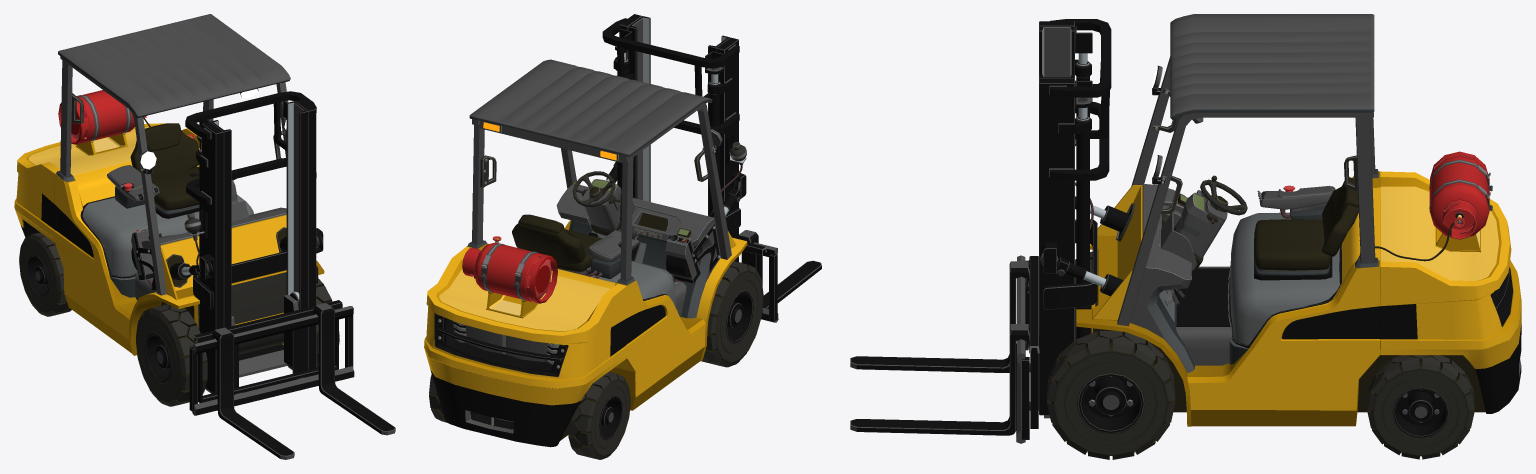
File: lift_truck.glb
3 views of the same model, side by side, from view 1: azimuth 30°, elevation 25°; view 2: azimuth 150°, elevation 25°; view 3: azimuth 270°, elevation 25° (orthographic). The views are drawn at different scales.
Visible parts, largest first — view 1: Cube037, Cube068, Cube027, Cube019, Cylinder030, Cube047, Cube041, Cube023, Cube050, Cube029, Cube049, Cube028 (+26 smaller); view 2: Cube019, Cube037, Cube043, Cube041, Cube068, Cube042, Cylinder036, Cylinder030, Cylinder040, Cube023, Cube038, Cube039 (+28 smaller); view 3: Cube037, Cube019, Cube041, Cylinder030, Cube068, Cube023, Cylinder036, Cube027, Cube047, Cube039, Cube042, Cube076 (+27 smaller).
Boxes of the visible parts, left/top/right/bottom form: Cube037: left=58, top=14, right=290, bottom=117; Cube068: left=202, top=99, right=316, bottom=392; Cube027: left=212, top=303, right=395, bottom=459; Cube019: left=14, top=123, right=197, bottom=238; Cylinder030: left=135, top=278, right=339, bottom=406; Cube047: left=83, top=195, right=253, bottom=297; Cube041: left=55, top=239, right=137, bottom=353; Cube023: left=55, top=140, right=237, bottom=275; Cube050: left=160, top=214, right=286, bottom=300; Cube029: left=192, top=306, right=354, bottom=415; Cube049: left=161, top=272, right=286, bottom=354; Cube028: left=193, top=300, right=342, bottom=402; Cube019: left=424, top=247, right=626, bottom=388; Cube037: left=469, top=59, right=712, bottom=157; Cube043: left=424, top=348, right=626, bottom=447; Cube041: left=609, top=316, right=705, bottom=410; Cube068: left=619, top=14, right=738, bottom=262; Cube042: left=556, top=183, right=720, bottom=318; Cylinder036: left=429, top=372, right=630, bottom=459; Cylinder030: left=701, top=261, right=763, bottom=367; Cylinder040: left=474, top=242, right=551, bottom=301; Cube023: left=466, top=243, right=678, bottom=353; Cube038: left=472, top=125, right=633, bottom=280; Cube039: left=472, top=103, right=731, bottom=259; Cube037: left=1170, top=14, right=1374, bottom=119; Cube019: left=1380, top=171, right=1521, bottom=349; Cube041: left=1187, top=348, right=1380, bottom=426; Cylinder030: left=1047, top=251, right=1175, bottom=459; Cube068: left=1039, top=21, right=1074, bottom=415; Cube023: left=1249, top=171, right=1380, bottom=349; Cylinder036: left=1367, top=355, right=1474, bottom=459; Cube027: left=850, top=261, right=1029, bottom=435; Cube047: left=1229, top=212, right=1341, bottom=364; Cube039: left=1117, top=56, right=1373, bottom=326; Cube042: left=1130, top=184, right=1194, bottom=372; Cube076: left=1254, top=219, right=1331, bottom=270.
Bounding box in the file's own units: 289 × 486 × 821.
